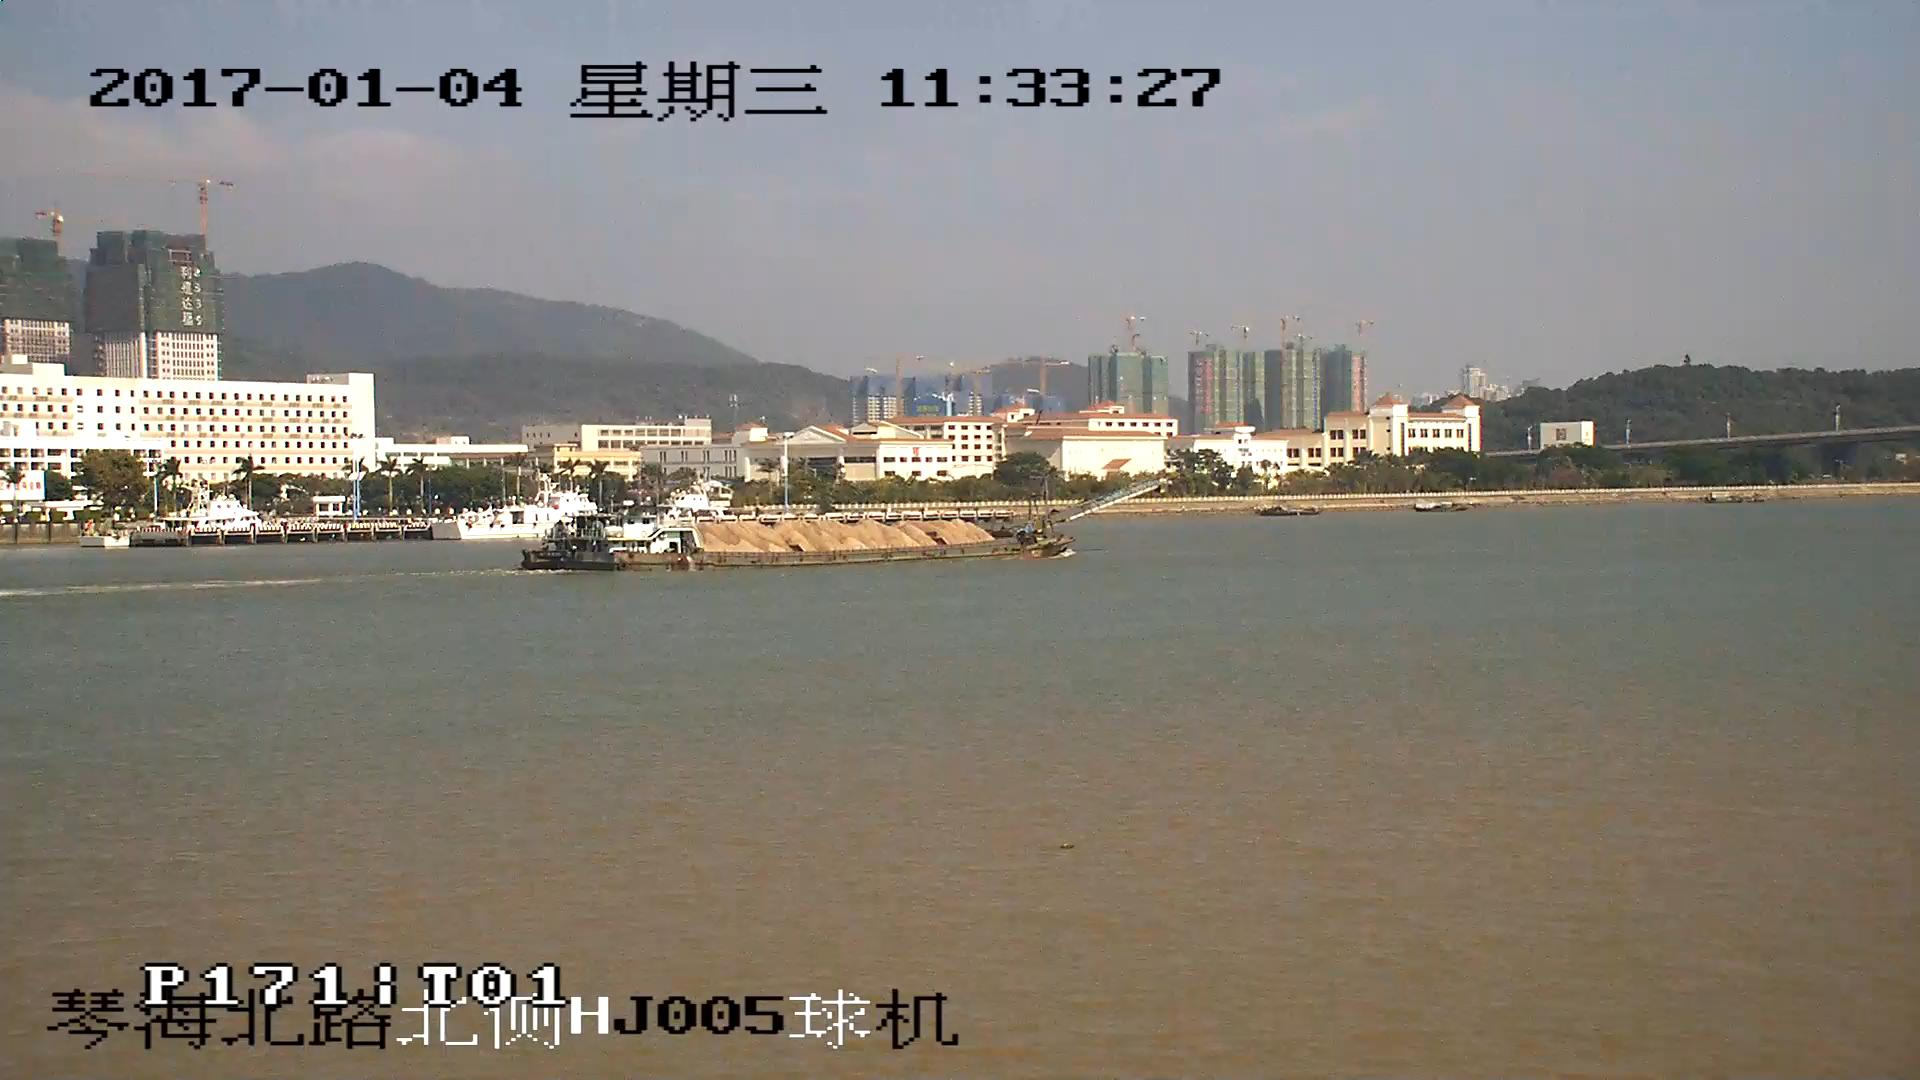ore carrier: (526, 472, 1174, 568)
